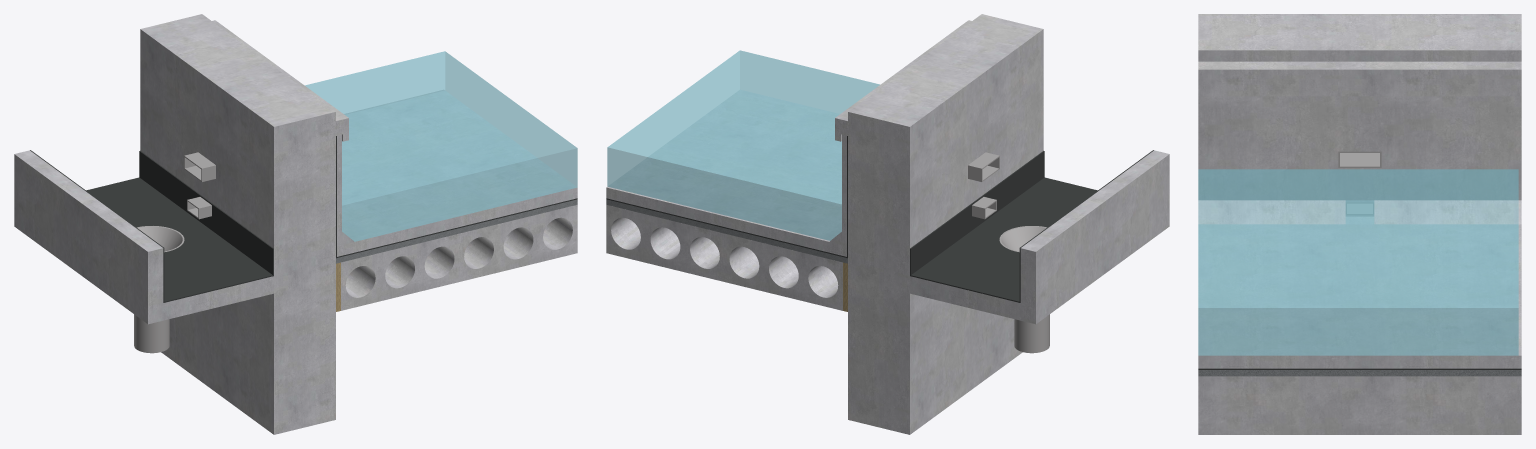
File: water-storage-eaves-drainage.glb
3 renders of one model, left to right at view 1: azimuth 30°, elevation 25°; view 2: azimuth 150°, elevation 25°; view 3: azimuth 270°, elevation 25°, orthographic. The views are drawn at different scales.
Parts seen in each view (by area): view 1: 承托及挡水墙, 水层, 保护层, 檐沟, 屋面空心板, 檐沟衬层, 水落管, 找平层, 泛水收头, 溢水孔, 泛水保护砂浆, 防水层; view 2: 承托及挡水墙, 水层, 保护层, 檐沟, 屋面空心板, 檐沟衬层, 水落管, 找平层, 泛水收头, 溢水孔, 泛水保护砂浆, 防水层; view 3: 水层, 保护层, 泛水保护砂浆, 屋面空心板, 承托及挡水墙, 泛水收头, 找平层, 溢水孔, 防水层, 泄水孔.
Boxes of the visible parts, x1,y1,x2,y2 form: 承托及挡水墙: [140, 14, 335, 434]; 水层: [305, 51, 577, 241]; 保护层: [337, 90, 577, 256]; 檐沟: [14, 150, 273, 324]; 屋面空心板: [341, 205, 577, 310]; 檐沟衬层: [30, 150, 273, 302]; 水落管: [134, 226, 184, 353]; 找平层: [336, 199, 577, 263]; 泛水收头: [212, 20, 348, 141]; 溢水孔: [184, 152, 215, 181]; 泛水保护砂浆: [337, 134, 354, 245]; 防水层: [336, 136, 577, 258]; 承托及挡水墙: [848, 14, 1043, 434]; 水层: [607, 50, 879, 240]; 保护层: [606, 90, 846, 256]; 檐沟: [910, 150, 1169, 324]; 屋面空心板: [606, 205, 842, 310]; 檐沟衬层: [910, 150, 1153, 302]; 水落管: [999, 226, 1049, 353]; 找平层: [606, 199, 847, 263]; 泛水收头: [835, 20, 971, 141]; 溢水孔: [968, 152, 999, 181]; 泛水保护砂浆: [829, 134, 846, 245]; 防水层: [606, 136, 847, 258]; 水层: [1198, 169, 1518, 355]; 保护层: [1198, 217, 1521, 368]; 泛水保护砂浆: [1198, 96, 1521, 224]; 屋面空心板: [1198, 376, 1521, 434]; 承托及挡水墙: [1198, 14, 1521, 61]; 泛水收头: [1198, 61, 1521, 96]; 找平层: [1198, 370, 1521, 376]; 溢水孔: [1338, 151, 1381, 167]; 防水层: [1198, 368, 1521, 369]; 泄水孔: [1346, 202, 1373, 214].
Bounding box in the file's own units: 1.67 × 1.14 × 0.9.
Materials: 11 (8 with a texture image).
